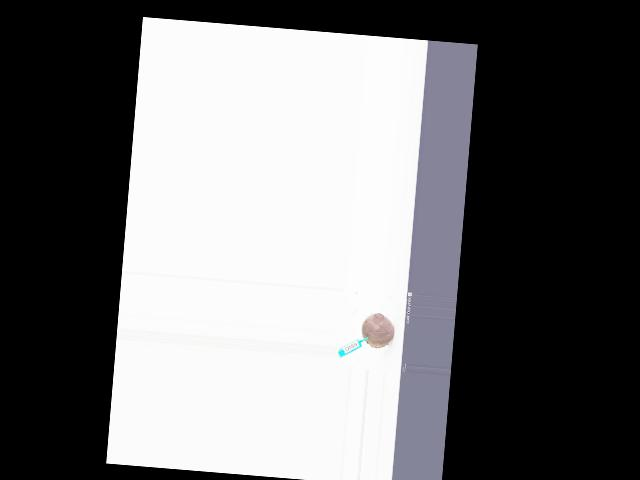beet: (360, 312, 395, 349)
